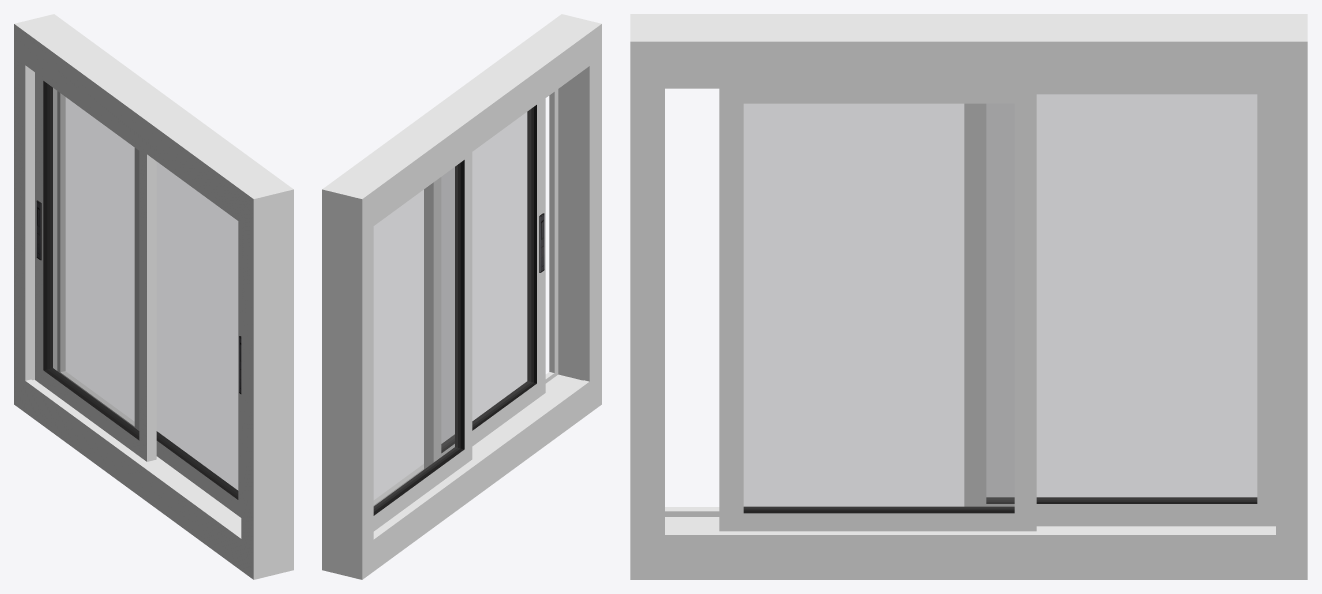
File: Window.FBX
3 views of the same model, side by side, from view 1: azimuth 30°, elevation 25°; view 2: azimuth 150°, elevation 25°; view 3: azimuth 270°, elevation 25° (orthographic). The views are drawn at different scales.
Visible parts, largest first — view 1: window frame, window A, window B; view 2: window frame, window A, window B; view 3: window B, window A, window frame.
Part boxes in pixels (bbox=[...]): window frame: bbox=[14, 14, 293, 579]; window A: bbox=[35, 72, 156, 461]; window B: bbox=[134, 148, 241, 517]; window frame: bbox=[322, 14, 601, 579]; window A: bbox=[373, 152, 472, 531]; window B: bbox=[424, 98, 545, 469]; window B: bbox=[719, 88, 1036, 531]; window A: bbox=[964, 88, 1275, 526]; window frame: bbox=[630, 14, 1307, 579].
Size of the model in its own units: 18.04 by 187 by 164.
2 materials, 1 textured.
